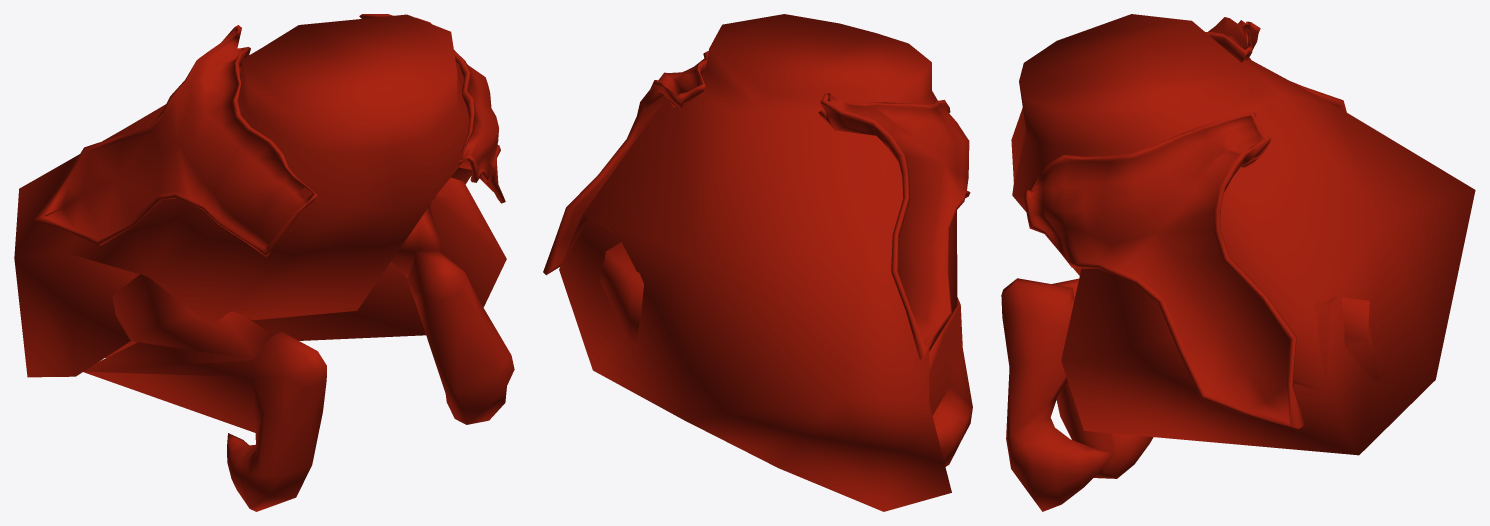
Rendered from bot_000050.obj.
3 views of the same model, side by side, from view 1: azimuth 30°, elevation 25°; view 2: azimuth 150°, elevation 25°; view 3: azimuth 270°, elevation 25° (orthographic). The views are drawn at different scales.
Visible parts, largest first — view 1: LowPoly_Warlock.004_Plane.004; view 2: LowPoly_Warlock.004_Plane.004; view 3: LowPoly_Warlock.004_Plane.004.
Boxes of the visible parts, <box> form: LowPoly_Warlock.004_Plane.004: <box>14,14,514,511</box>; LowPoly_Warlock.004_Plane.004: <box>543,14,972,511</box>; LowPoly_Warlock.004_Plane.004: <box>1001,14,1475,511</box>.
Bounding box in the file's own units: 0.7836 × 0.732 × 0.6571.
